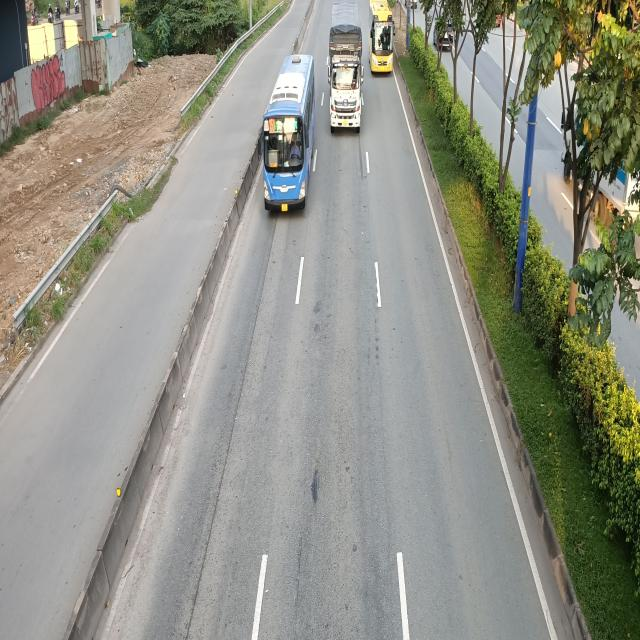coach: (258, 55, 316, 213), (368, 0, 396, 78)
truck: (328, 1, 366, 134)
